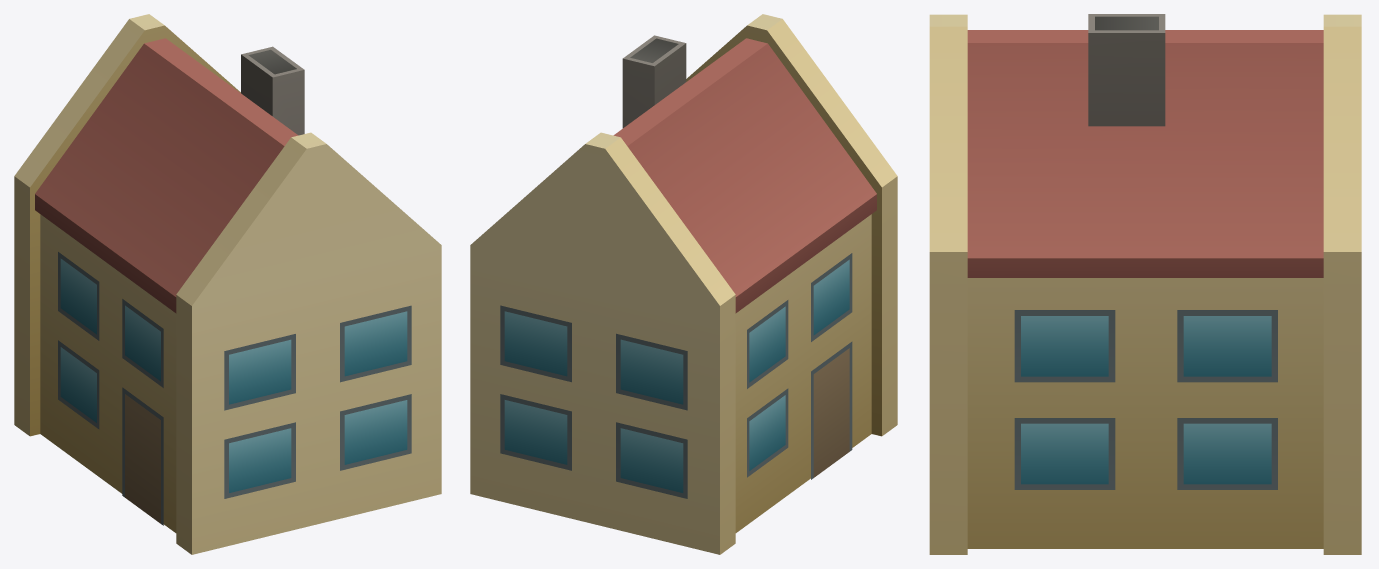
The model's file is House_L_A.fbx.
3 views of the same model, side by side, from view 1: azimuth 30°, elevation 25°; view 2: azimuth 150°, elevation 25°; view 3: azimuth 270°, elevation 25° (orthographic). The views are drawn at different scales.
Parts seen in each view (by area): view 1: House_L_A; view 2: House_L_A; view 3: House_L_A.
Boxes of the visible parts, x1=… form: House_L_A: x1=14, y1=14, x2=441, y2=554; House_L_A: x1=470, y1=14, x2=897, y2=554; House_L_A: x1=929, y1=14, x2=1361, y2=554.
Bounding box in the file's own units: 722 × 1088 × 901.
